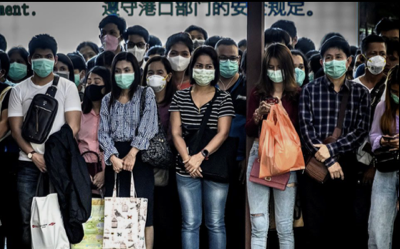with_mask: (321, 50, 347, 78), (215, 51, 239, 77), (364, 48, 388, 74), (146, 66, 169, 92), (30, 51, 54, 75), (192, 60, 215, 85), (166, 48, 189, 71), (115, 64, 135, 89), (7, 56, 27, 80), (85, 74, 103, 100), (125, 40, 146, 62), (289, 60, 306, 86), (266, 60, 286, 82), (100, 27, 118, 50), (390, 87, 399, 107)
